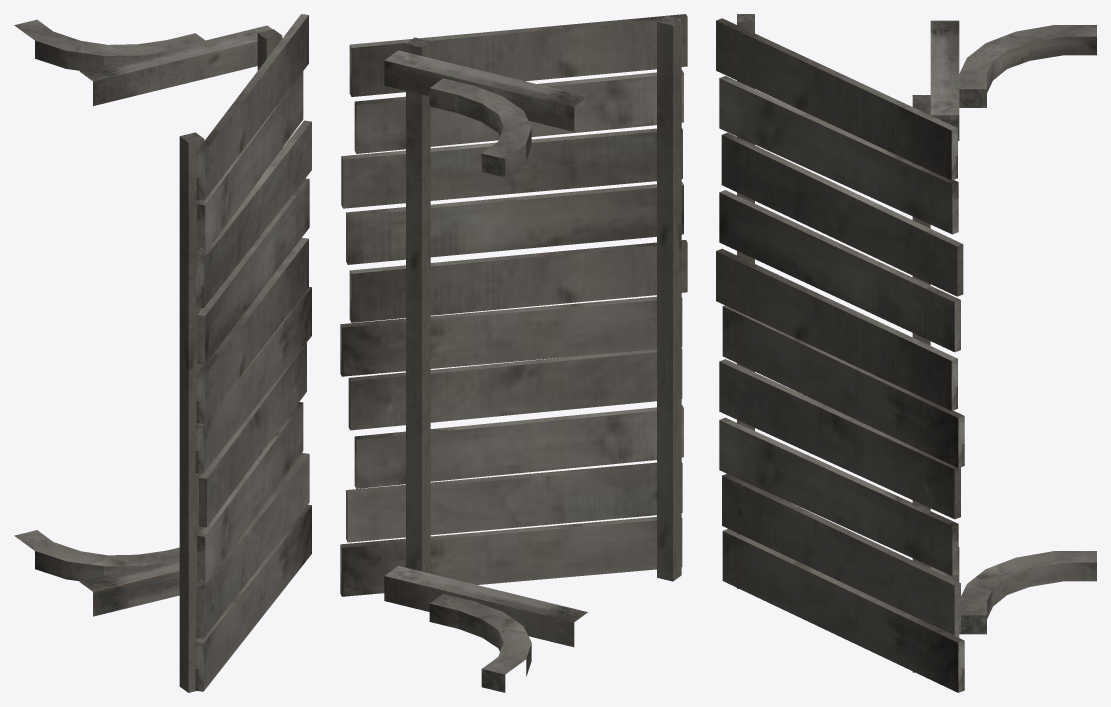
Rendered from awning_desert_wood_large1.glb.
3 renders of one model, left to right at view 1: azimuth 30°, elevation 25°; view 2: azimuth 150°, elevation 25°; view 3: azimuth 270°, elevation 25°, orthographic. The views are drawn at different scales.
Size of the model in its own units: 30.71 by 69.8 by 42.31.
1 material, 1 textured.
